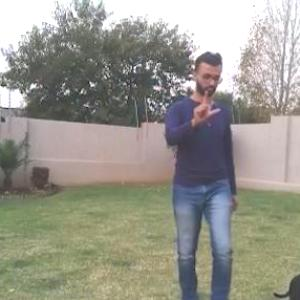land_hand: (184, 80, 220, 131)
